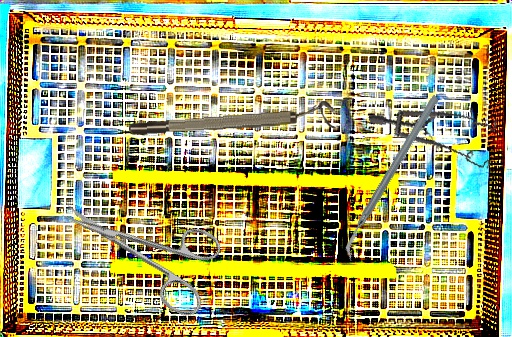Chopper: (299, 93, 485, 262)
Fixation Ring: (128, 100, 337, 139)
Iris Scissors: (46, 170, 233, 321)
Speculum: (367, 83, 509, 196)
